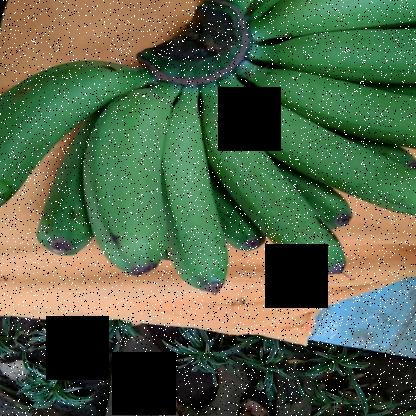freshunripe: (222, 84, 415, 225), (0, 59, 125, 211), (155, 99, 233, 298), (251, 74, 415, 158), (249, 26, 415, 90), (266, 1, 415, 46)
